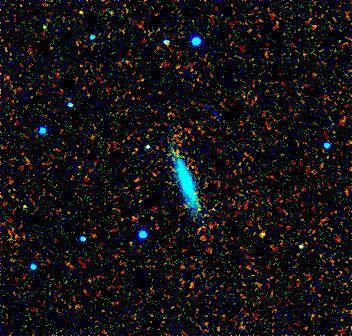star: (250, 225, 280, 255)
